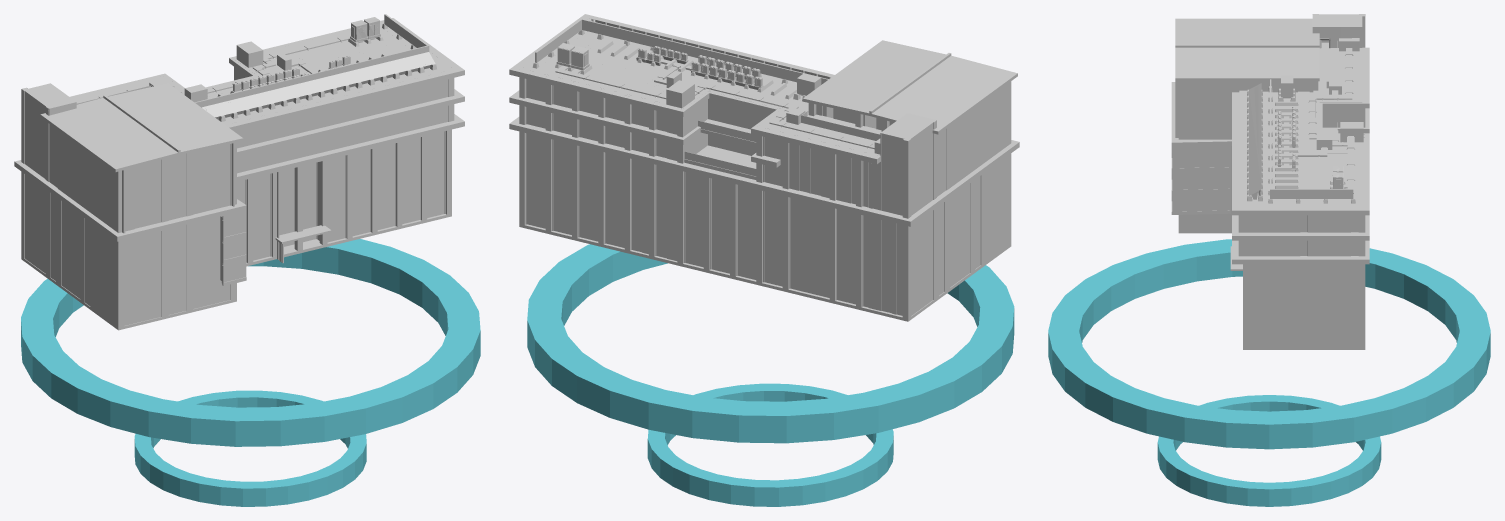
The model's file is teleporter_s2.glb.
3 views of the same model, side by side, from view 1: azimuth 30°, elevation 25°; view 2: azimuth 150°, elevation 25°; view 3: azimuth 270°, elevation 25° (orthographic). The views are drawn at different scales.
Visible parts, largest first — view 1: 立方体, 円柱.001, 円柱; view 2: 立方体, 円柱.001, 円柱; view 3: 立方体, 円柱.001, 円柱.
Boxes of the visible parts, x1,y1,x2,y2 form: 立方体: (14, 14, 464, 330); 円柱.001: (21, 239, 480, 446); 円柱: (134, 390, 366, 506); 立方体: (509, 14, 1019, 321); 円柱.001: (527, 244, 1014, 443); 円柱: (647, 383, 893, 506); 立方体: (1171, 14, 1369, 349); 円柱.001: (1048, 239, 1490, 449); 円柱: (1157, 395, 1381, 506).
Size of the model in its own units: 45.49 by 41 by 45.49.
